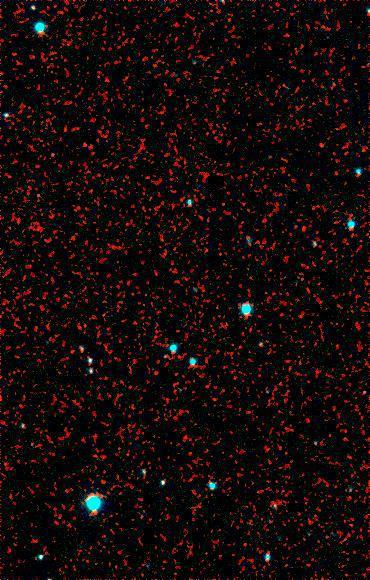star: (305, 131, 335, 161)
